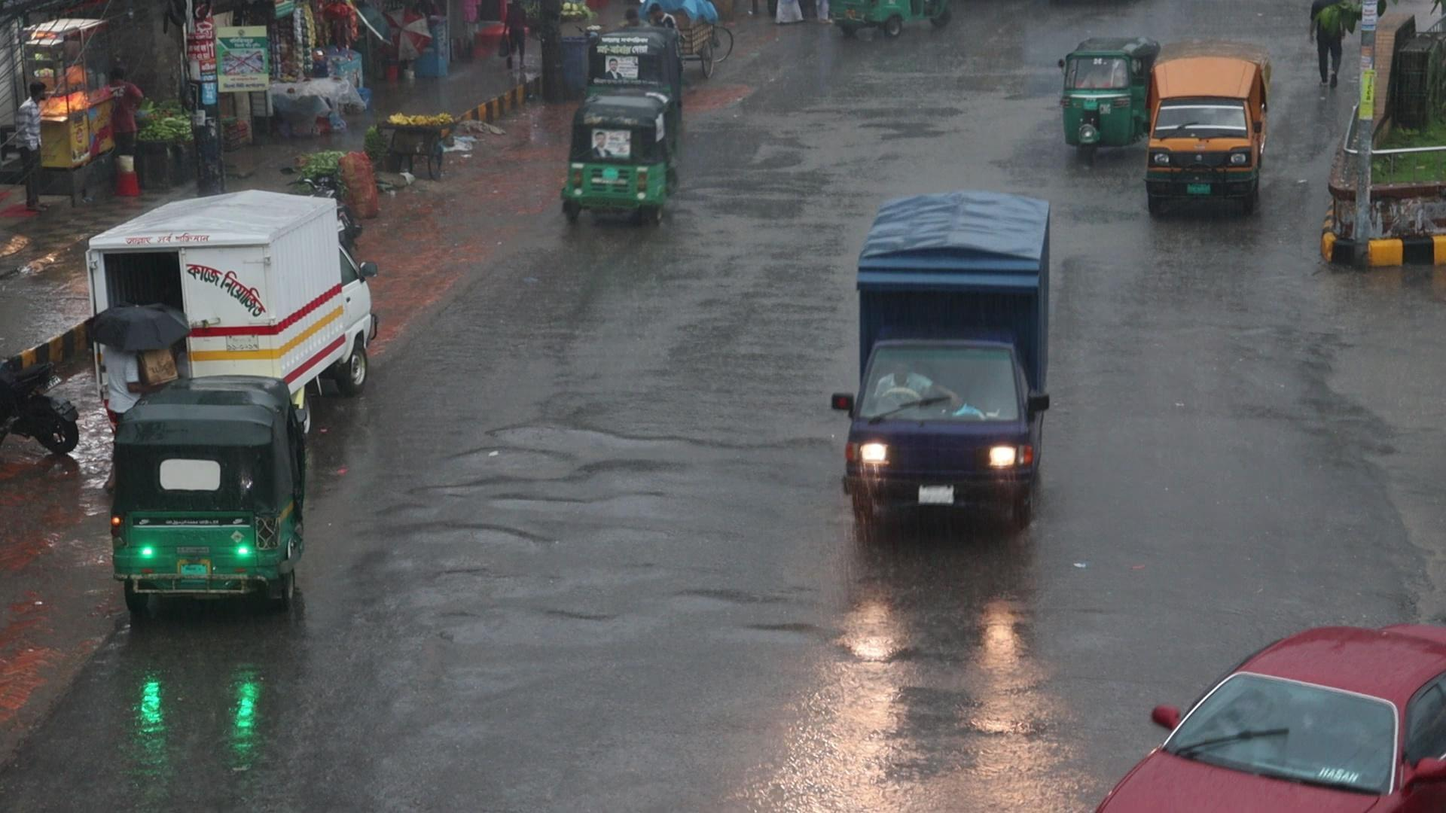Car: (1074, 617, 1446, 813)
Truck: (840, 187, 1049, 534), (1145, 41, 1268, 216)
